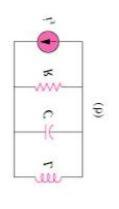inductor: (23, 168, 66, 188)
